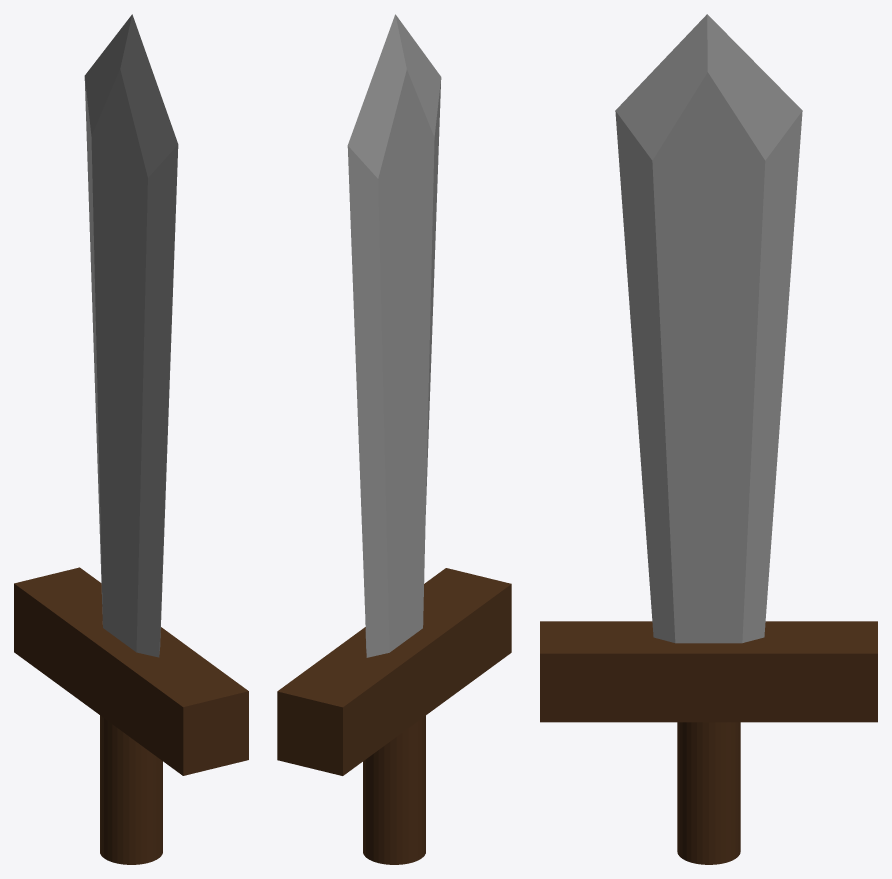
The model's file is Iron Sword.fbx.
The picture shows the model from 3 angles, left to right: view 1: azimuth 30°, elevation 25°; view 2: azimuth 150°, elevation 25°; view 3: azimuth 270°, elevation 25°; orthographic projection.
Visible parts, largest first — view 1: Cylinder.024; view 2: Cylinder.024; view 3: Cylinder.024.
Boxes of the visible parts, x1,y1,x2,y2 form: Cylinder.024: (14,14,248,864); Cylinder.024: (277,14,511,864); Cylinder.024: (540,14,877,864).
Bounding box in the file's own units: 4.18 × 50.89 × 18.61.
